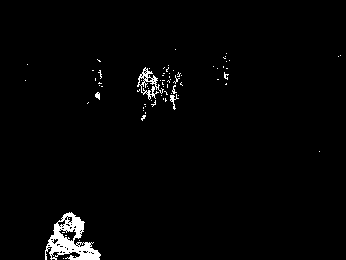person: (158, 62, 184, 114), (136, 64, 159, 122)
